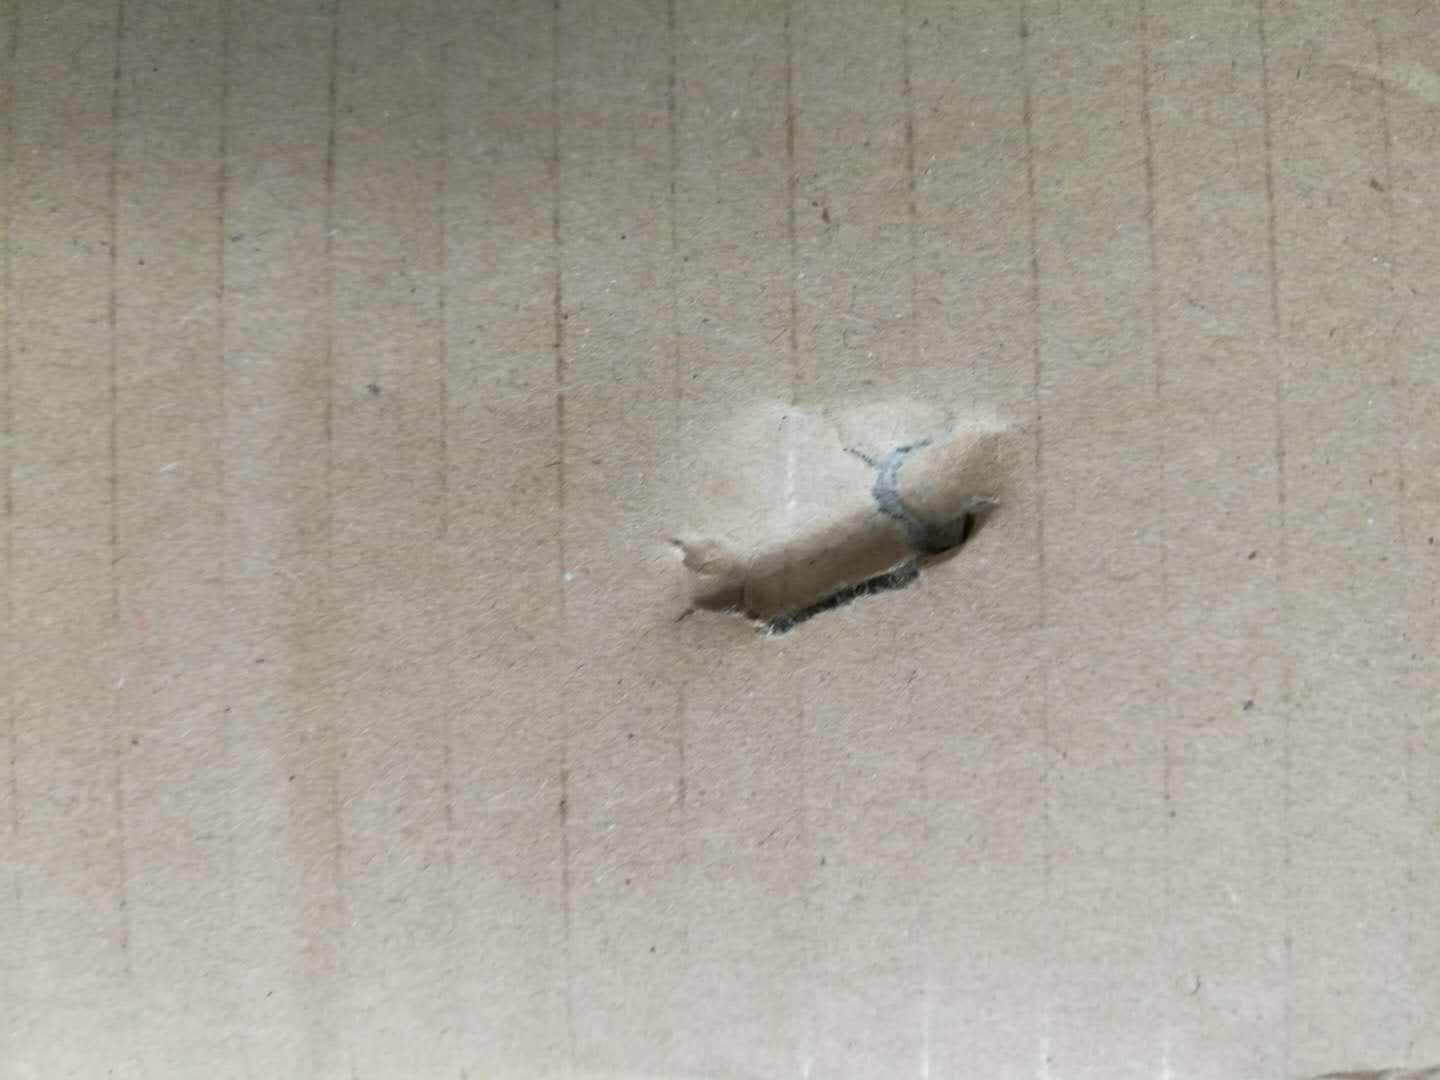defect: (613, 324, 1124, 733)
